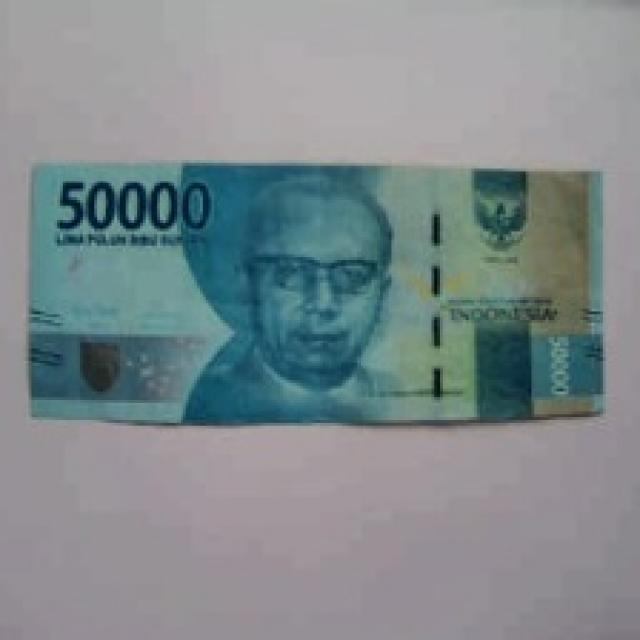dua ribu rupiah: (0, 106, 640, 523)
